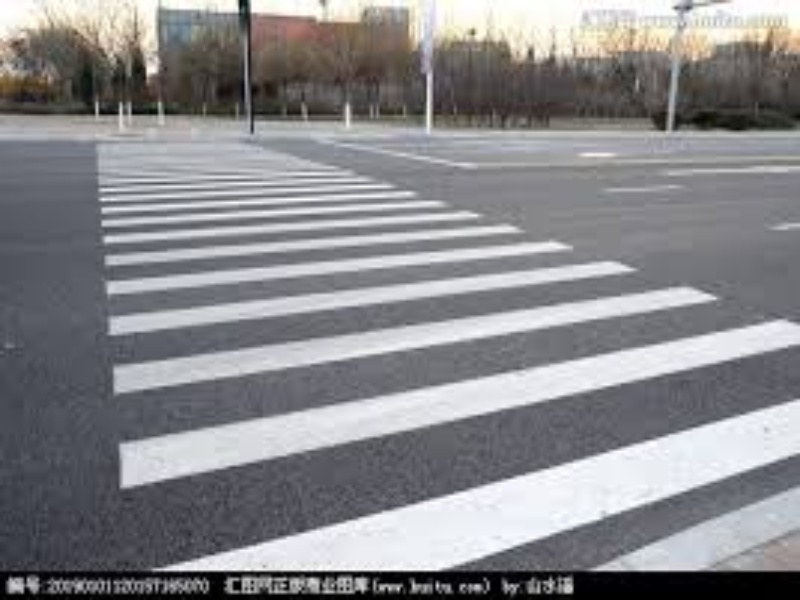zebra cross: (94, 140, 796, 567)
